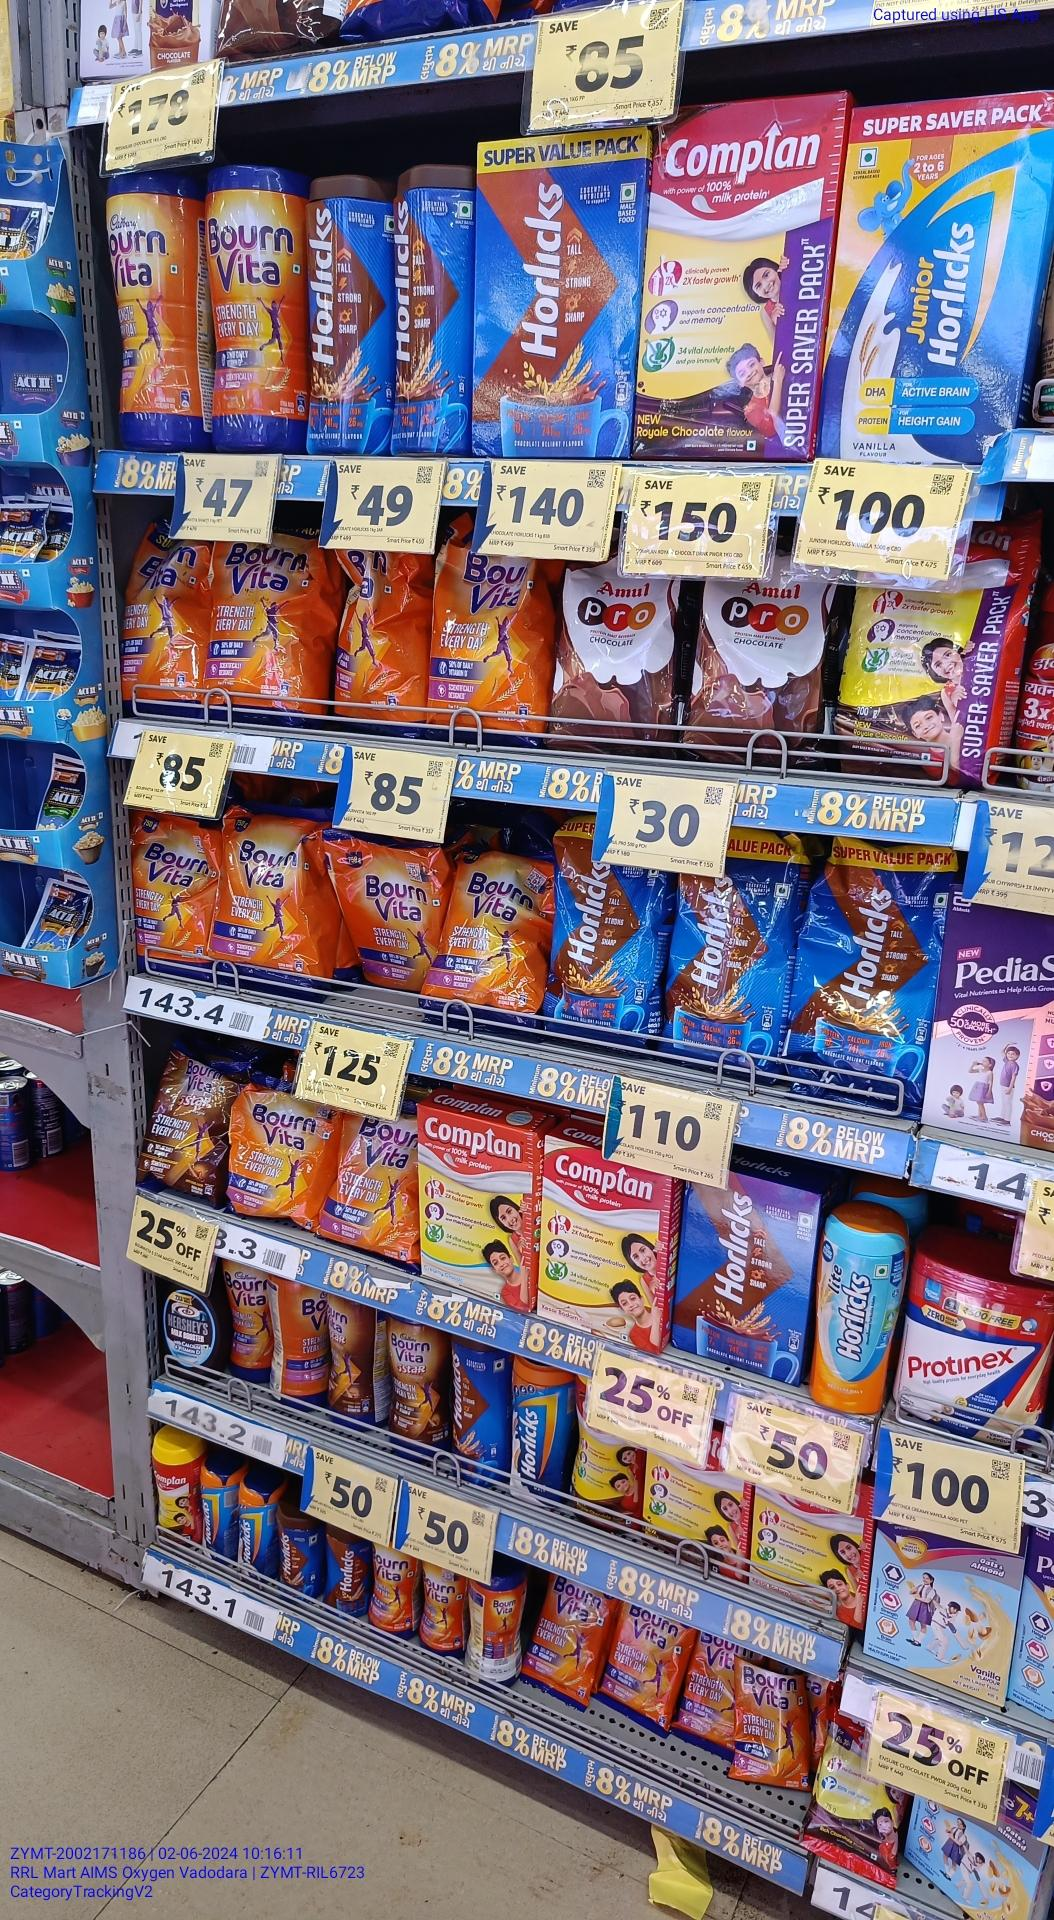BOURN_VITA_FIVE_STAR_MAGIC_500_G_JAR: (388, 1314, 449, 1462), (325, 1295, 384, 1431)
BOURN_VITA_FIVE_STAR_MAGIC_500_G_POUCH: (138, 1034, 234, 1209)
HORLICKS_LITE_REGULAR_MALT_500_GM_JAR: (814, 1204, 894, 1415)
HORLICK_CLASSIC_MALT_500_G_JAR: (509, 1358, 572, 1509)
PROTINEX_VANILLA_400_G_JAR: (902, 1247, 1051, 1444)
